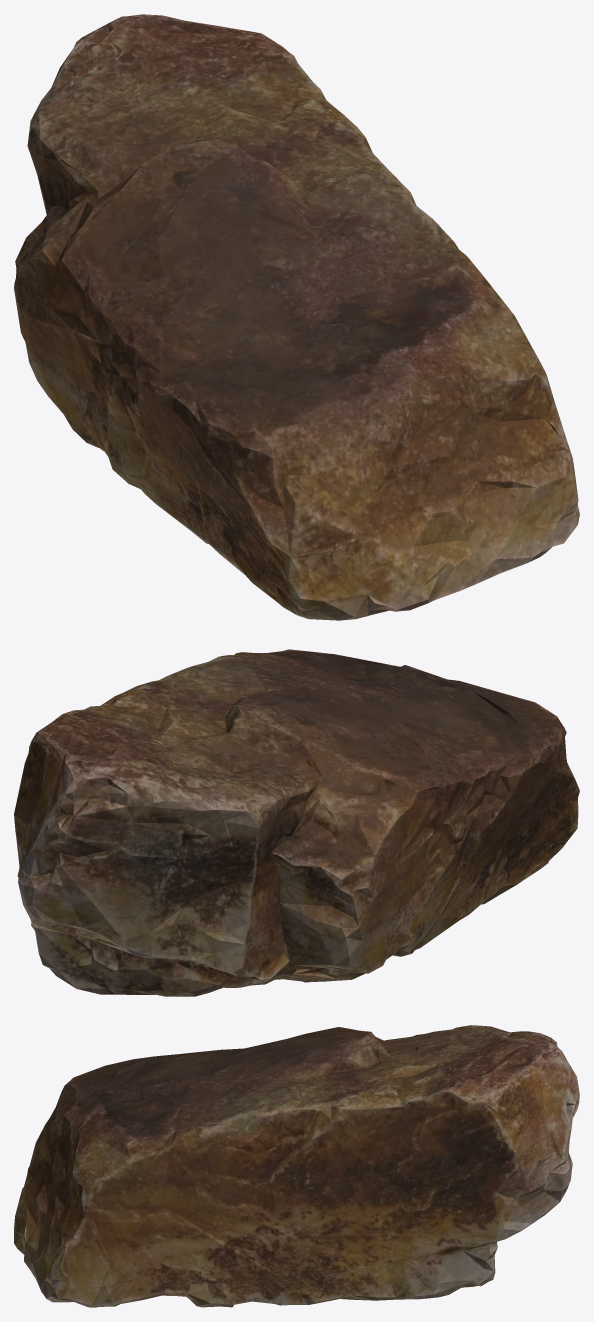
The model's file is rock_07.glb.
3 renders of one model, top to bottom at view 1: azimuth 30°, elevation 25°; view 2: azimuth 150°, elevation 25°; view 3: azimuth 270°, elevation 25°, orthographic. The views are drawn at different scales.
Parts seen in each view (by area): view 1: rock_07; view 2: rock_07; view 3: rock_07.
Part boxes in pixels (x1=…): rock_07: x1=14, y1=14, x2=579, y2=620; rock_07: x1=14, y1=649, x2=579, y2=996; rock_07: x1=14, y1=1025, x2=579, y2=1307.
Bounding box in the file's own units: 0.1681 × 0.1437 × 0.3199.
Materials: 1 (1 with a texture image).
